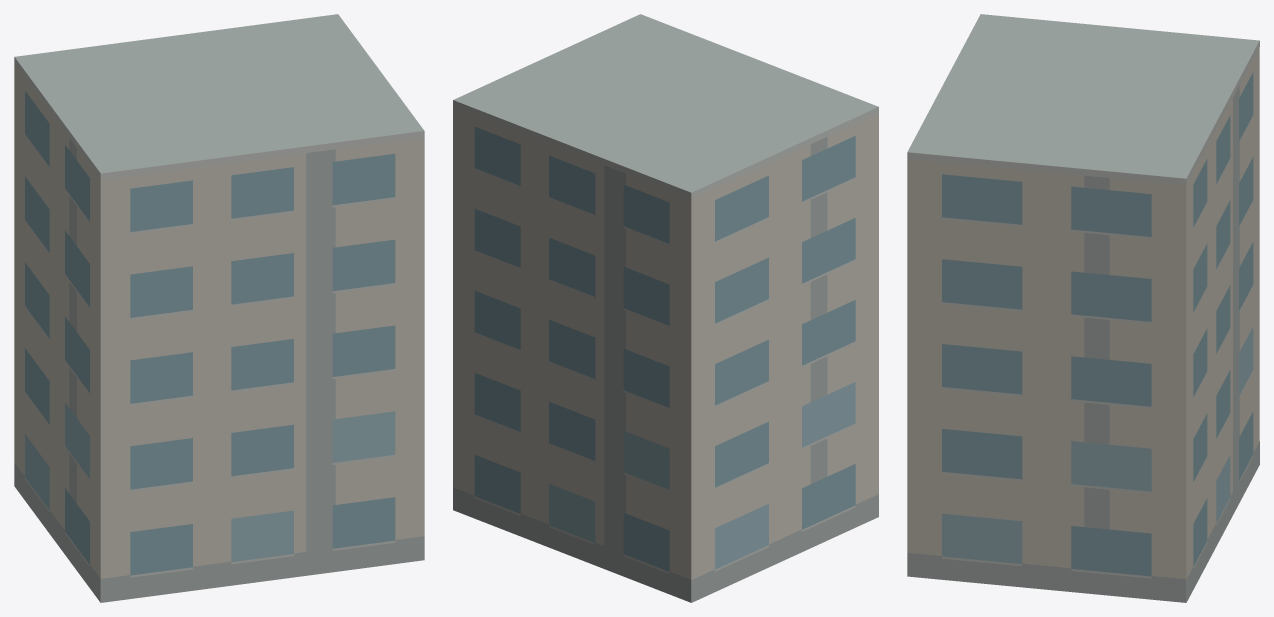
Rendered from residential-5e633af0-ab99-4061-9613-0164dd522f58.glb.
3 renders of one model, left to right at view 1: azimuth 30°, elevation 25°; view 2: azimuth 150°, elevation 25°; view 3: azimuth 270°, elevation 25°, orthographic. The views are drawn at different scales.
Visible parts, largest first — view 1: residential-5e633af0-ab99-4061-9613-0164dd522f58.tmp; view 2: residential-5e633af0-ab99-4061-9613-0164dd522f58.tmp; view 3: residential-5e633af0-ab99-4061-9613-0164dd522f58.tmp.
Boxes of the visible parts, left/top/right/bottom form: residential-5e633af0-ab99-4061-9613-0164dd522f58.tmp: left=14, top=14, right=424, bottom=602; residential-5e633af0-ab99-4061-9613-0164dd522f58.tmp: left=453, top=14, right=878, bottom=602; residential-5e633af0-ab99-4061-9613-0164dd522f58.tmp: left=907, top=14, right=1259, bottom=602.
Bounding box in the file's own units: 13.08 × 15.7 × 11.83.
